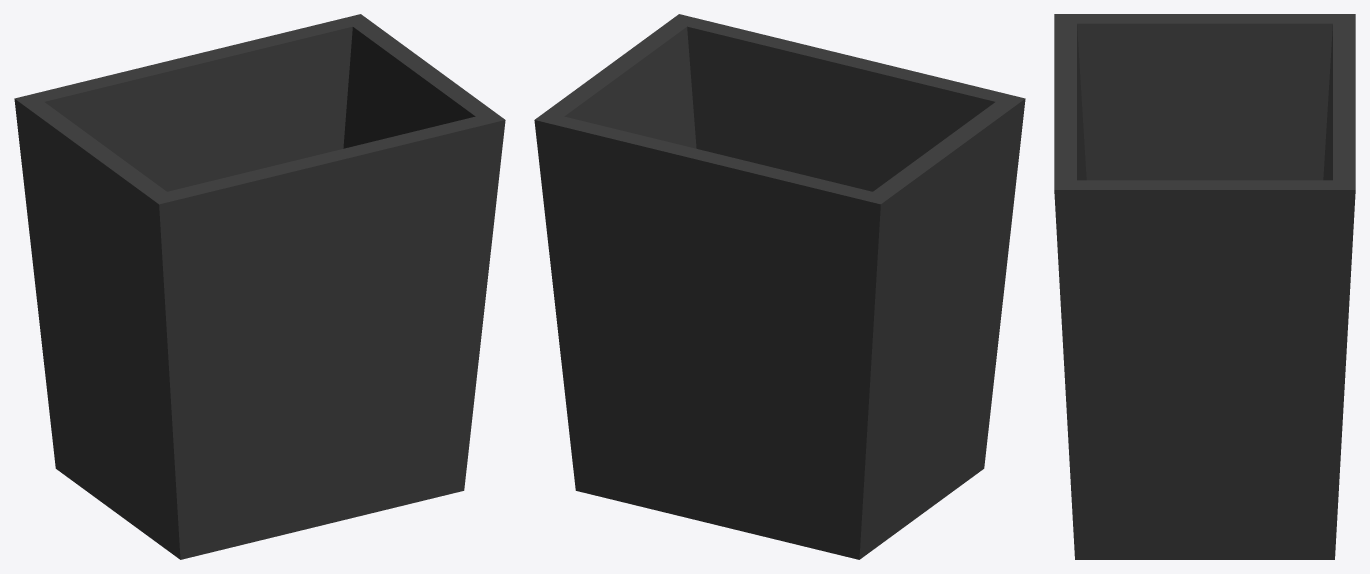
File: TrashBinV1Black.fbx
3 renders of one model, left to right at view 1: azimuth 30°, elevation 25°; view 2: azimuth 150°, elevation 25°; view 3: azimuth 270°, elevation 25°, orthographic. The views are drawn at different scales.
Parts seen in each view (by area): view 1: TrashBinV1Black; view 2: TrashBinV1Black; view 3: TrashBinV1Black.
Boxes of the visible parts, bbox=[...] form: TrashBinV1Black: bbox=[14, 14, 505, 559]; TrashBinV1Black: bbox=[534, 14, 1025, 559]; TrashBinV1Black: bbox=[1054, 14, 1355, 559].
Size of the model in its own units: 33.16 by 33.89 by 23.99.
